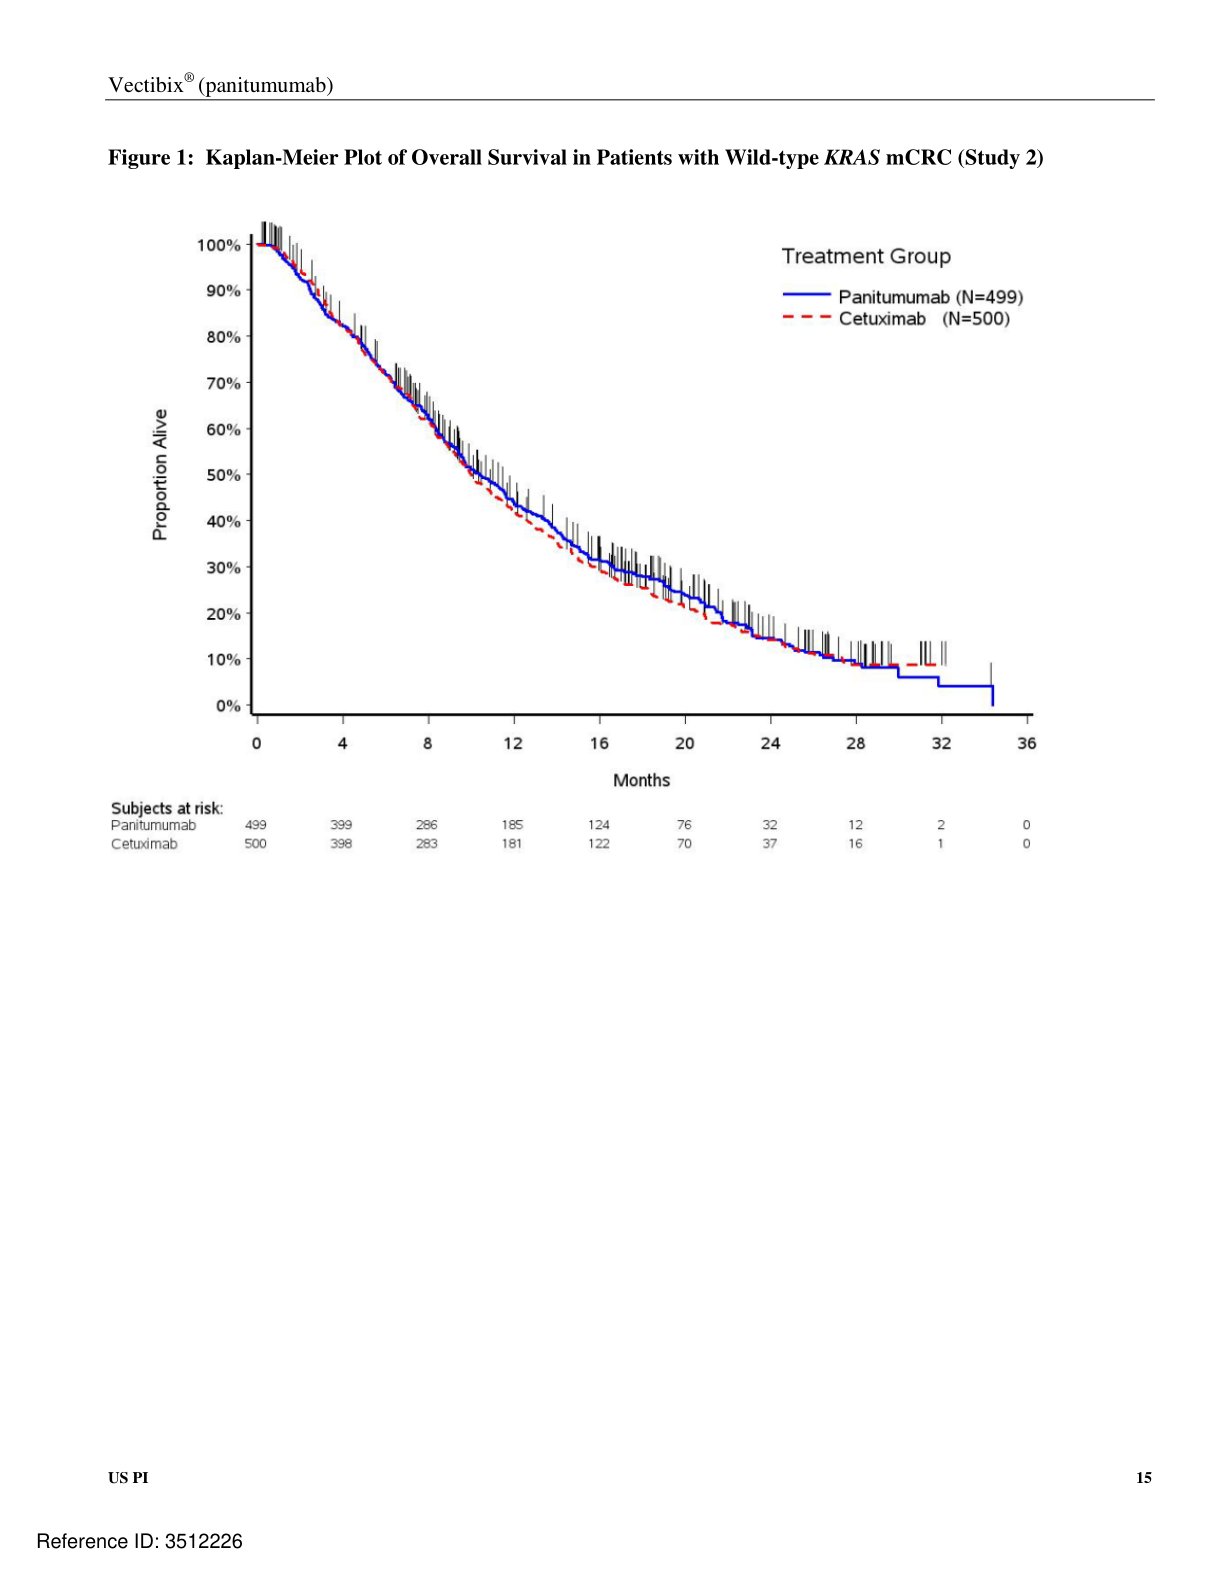nolines: (108, 818, 1034, 850)
